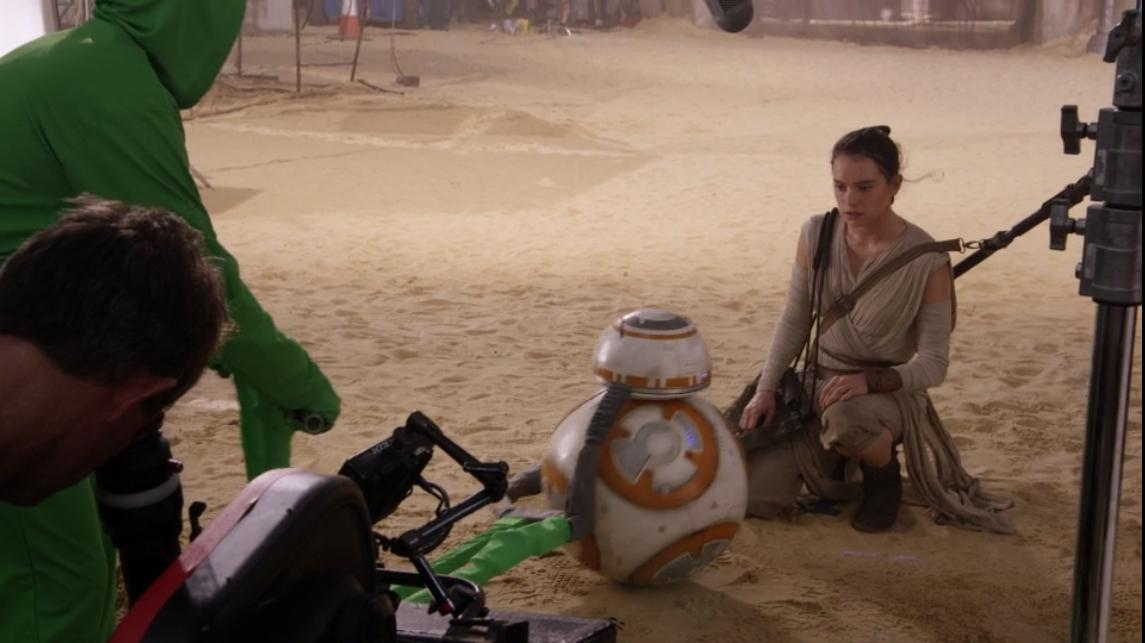bb8: (542, 307, 746, 587)
